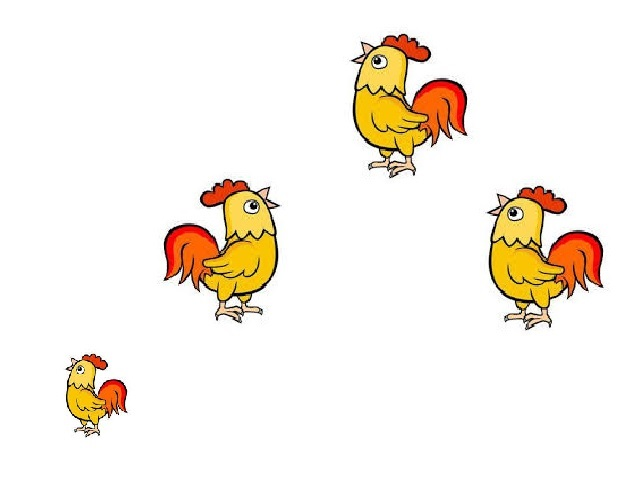crown: (195, 174, 248, 206), (522, 182, 570, 215), (384, 34, 434, 61), (79, 351, 113, 369)
eyes: (506, 205, 524, 224), (373, 52, 387, 69), (241, 200, 259, 213), (76, 366, 87, 375)
feet: (497, 306, 554, 334), (212, 299, 267, 326), (369, 154, 419, 180), (72, 425, 101, 440)
tail: (415, 76, 467, 145), (163, 223, 217, 286), (553, 232, 604, 296), (99, 377, 127, 417)
